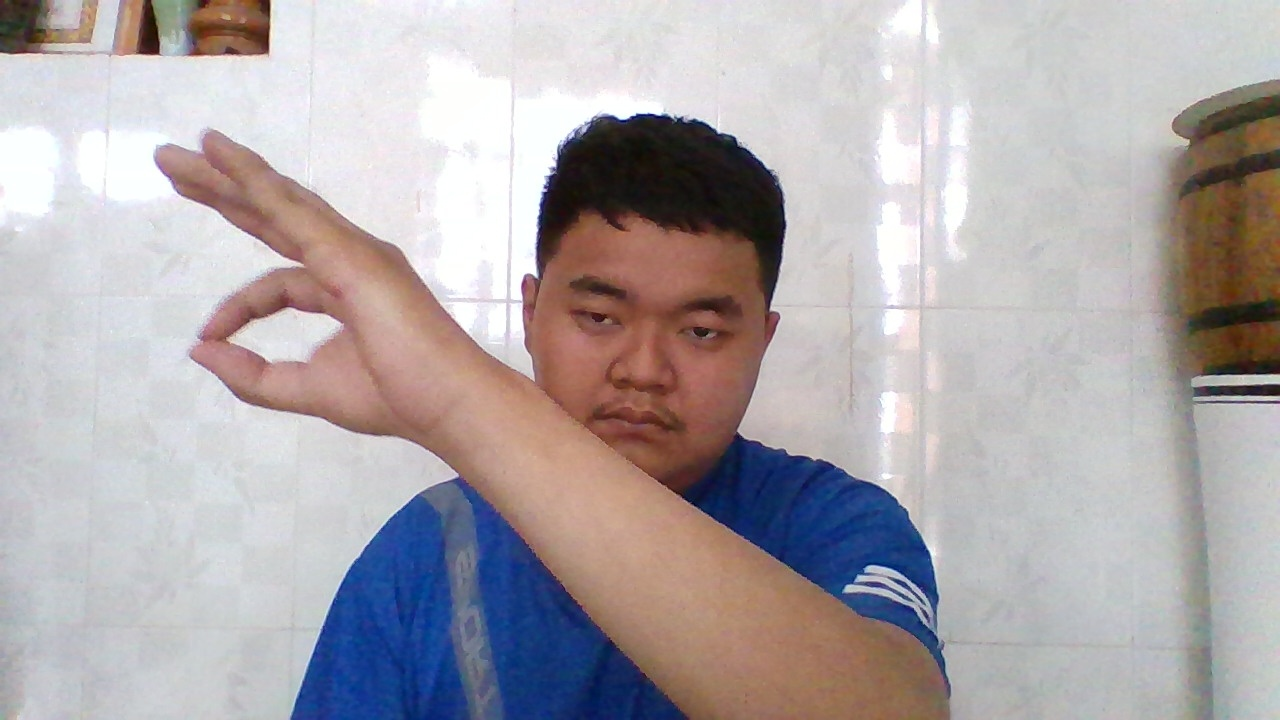T: (153, 124, 463, 436)
